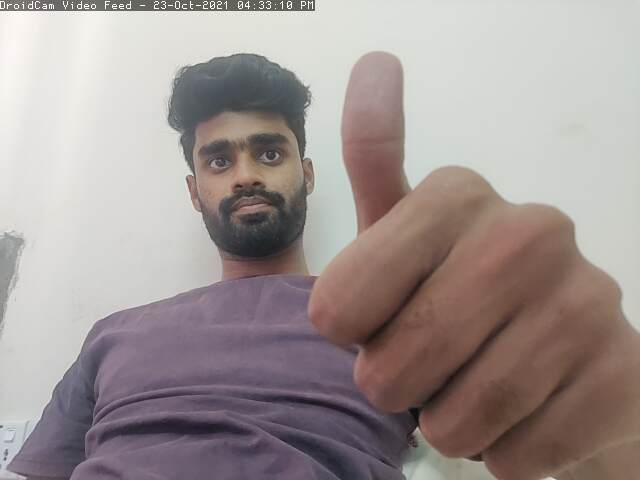ThumbsUp: (303, 50, 640, 475)
